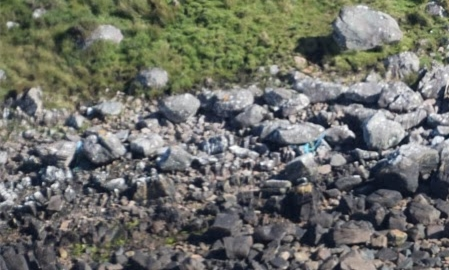white_in_green: (285, 115, 349, 167)
